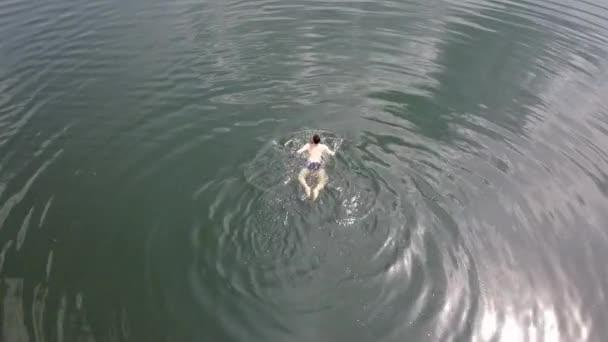swimmer: (294, 130, 342, 200)
